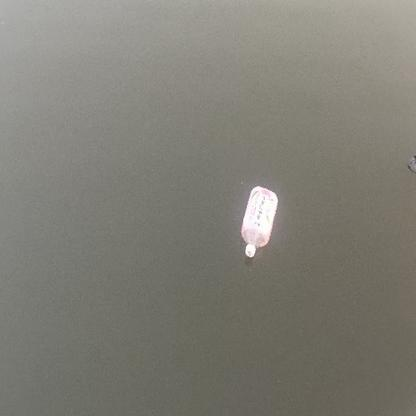plastic bottle: (240, 186, 278, 258)
